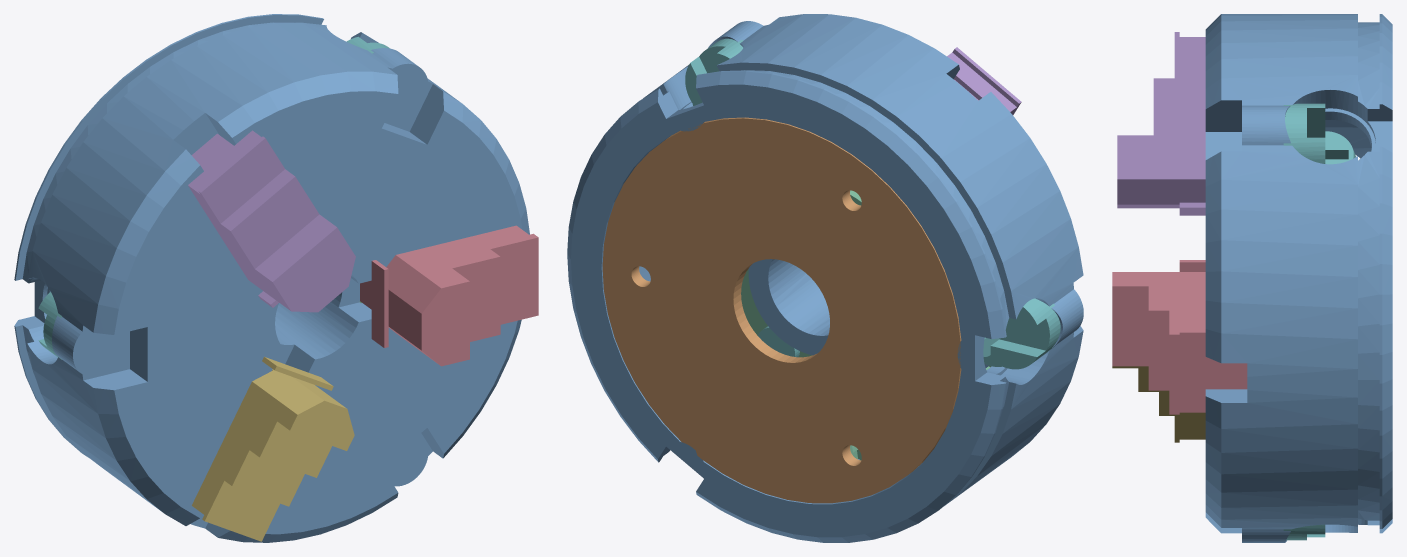
3 views of the same model, side by side, from view 1: azimuth 30°, elevation 25°; view 2: azimuth 150°, elevation 25°; view 3: azimuth 270°, elevation 25° (orthographic). The views are drawn at different scales.
Visible parts, largest first — view 1: body_0_0, jaw_2_4_0, jaw_1_3_0, jaw_3_5_0, pinion_7_0; view 2: body_0_0, cover_1_0, pinion_7_0, jaw_2_4_0, pinion_6_0, scroll_plate_2_0; view 3: body_0_0, jaw_1_3_0, jaw_2_4_0, pinion_6_0, jaw_3_5_0, pinion_8_0.
Boxes of the visible parts, bbox=[...] form: body_0_0: bbox=[14, 14, 529, 542]; jaw_2_4_0: bbox=[188, 130, 355, 312]; jaw_1_3_0: bbox=[360, 225, 538, 366]; jaw_3_5_0: bbox=[192, 356, 354, 541]; pinion_7_0: bbox=[38, 292, 62, 359]; body_0_0: bbox=[567, 14, 1083, 542]; cover_1_0: bbox=[602, 117, 961, 503]; pinion_7_0: bbox=[983, 298, 1060, 369]; jaw_2_4_0: bbox=[947, 47, 1021, 114]; pinion_6_0: bbox=[685, 38, 743, 105]; scroll_plate_2_0: bbox=[741, 190, 991, 460]; body_0_0: bbox=[1205, 14, 1392, 542]; jaw_1_3_0: bbox=[1112, 260, 1247, 414]; jaw_2_4_0: bbox=[1117, 32, 1205, 215]; pinion_6_0: bbox=[1283, 103, 1355, 164]; jaw_3_5_0: bbox=[1112, 366, 1205, 442]; pinion_8_0: bbox=[1283, 524, 1325, 540].
Bounding box in the file's own units: 102 × 99.98 × 54.
